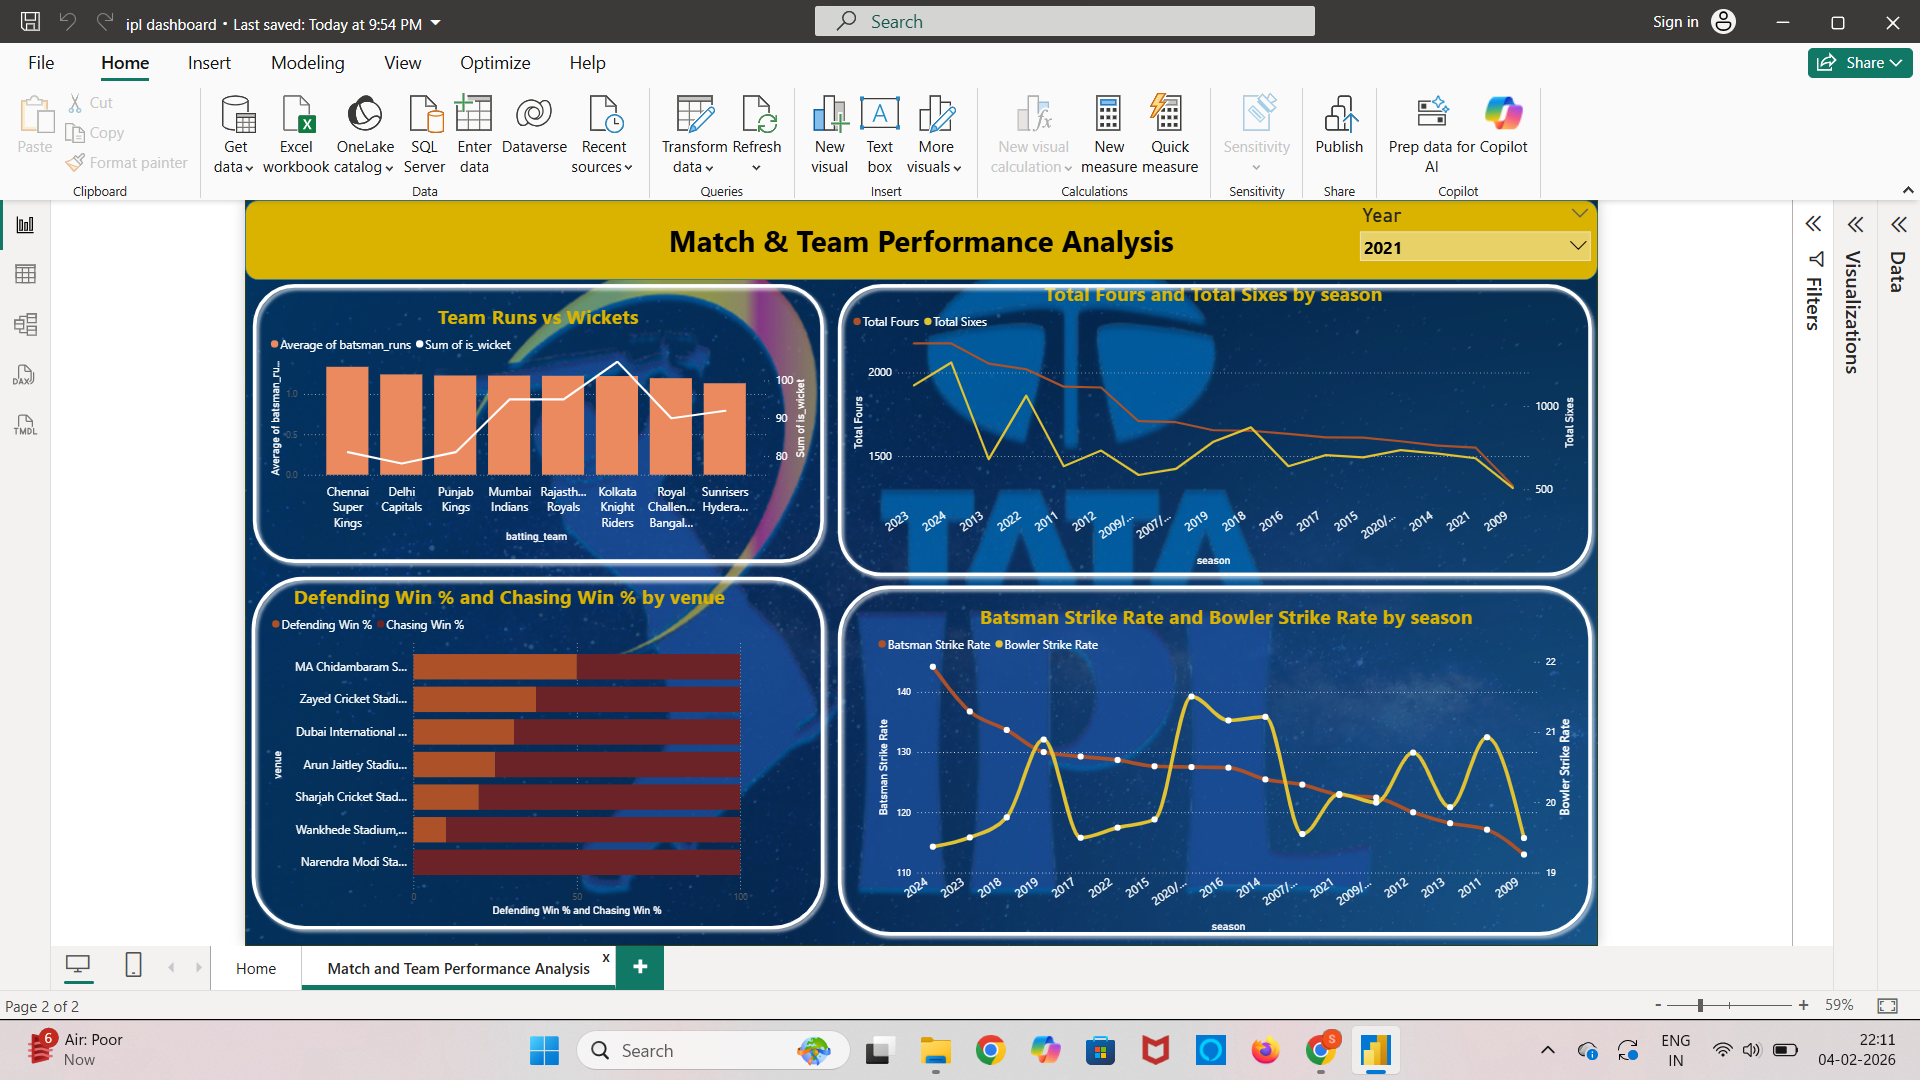

The page's visual inventory and layout, read from the dashboard file:
{"tool":"powerbi","page":{"name":"Match and Team Performance Analysis","canvas":[1850,1020],"ordinal":1},"visuals":[{"type":"shape","box":[801,518.3,1049,497.1],"z":0},{"type":"shape","box":[0,0,1849.5,109.5],"z":1000},{"type":"slicer","fields":{"Values":["Date_Table.Year"]},"box":[1514,0,335.5,109.5],"z":2000},{"type":"shape","box":[2.1,106.2,798.8,399.4],"z":3000},{"type":"lineStackedColumnComboChart","title":" Team Runs vs Wickets","fields":{"Category":["deliveries.batting_team"],"Y":["Avg(deliveries.batsman_runs)"],"Y2":["Sum(deliveries.is_wicket)"]},"box":[29.7,140.2,743.6,333.5],"z":4000},{"type":"barChart","fields":{"Category":["matches.venue"],"Y":["deliveries.Defending Win %","deliveries.Chasing Win %"]},"box":[30.1,523.6,661.6,461.7],"z":5000},{"type":"lineChart","fields":{"Category":["matches.season"],"Y":["deliveries.Batsman Strike Rate"],"Y2":["deliveries.Bowler Strike Rate"]},"box":[859.7,550.2,964.1,456.4],"z":6000},{"type":"lineChart","fields":{"Category":["matches.season"],"Y":["deliveries.Total Fours"],"Y2":["deliveries.Total Sixes"]},"box":[826.1,109.7,997.7,396.3],"z":7000},{"type":"shape","box":[0,505.9,801.4,500.6],"z":8000},{"type":"shape","box":[801.4,106.1,1049,417.5],"z":9000}]}

Visuals, with their boxes on the page's 1850x1020 design canvas (x1, y1, x2, y2). These are canvas units, not pixel positions in the 1920x1080 screenshot, which may show the page scaled, cropped or inside an application window:
shape: select_region(801, 518, 1850, 1015)
shape: select_region(0, 0, 1850, 110)
slicer - Date_Table.Year: select_region(1514, 0, 1850, 110)
shape: select_region(2, 106, 801, 506)
" Team Runs vs Wickets" lineStackedColumnComboChart: select_region(30, 140, 773, 474)
barChart - matches.venue x deliveries.Defending Win %: select_region(30, 524, 692, 985)
lineChart - matches.season x deliveries.Batsman Strike Rate: select_region(860, 550, 1824, 1007)
lineChart - matches.season x deliveries.Total Fours: select_region(826, 110, 1824, 506)
shape: select_region(0, 506, 801, 1006)
shape: select_region(801, 106, 1850, 524)
